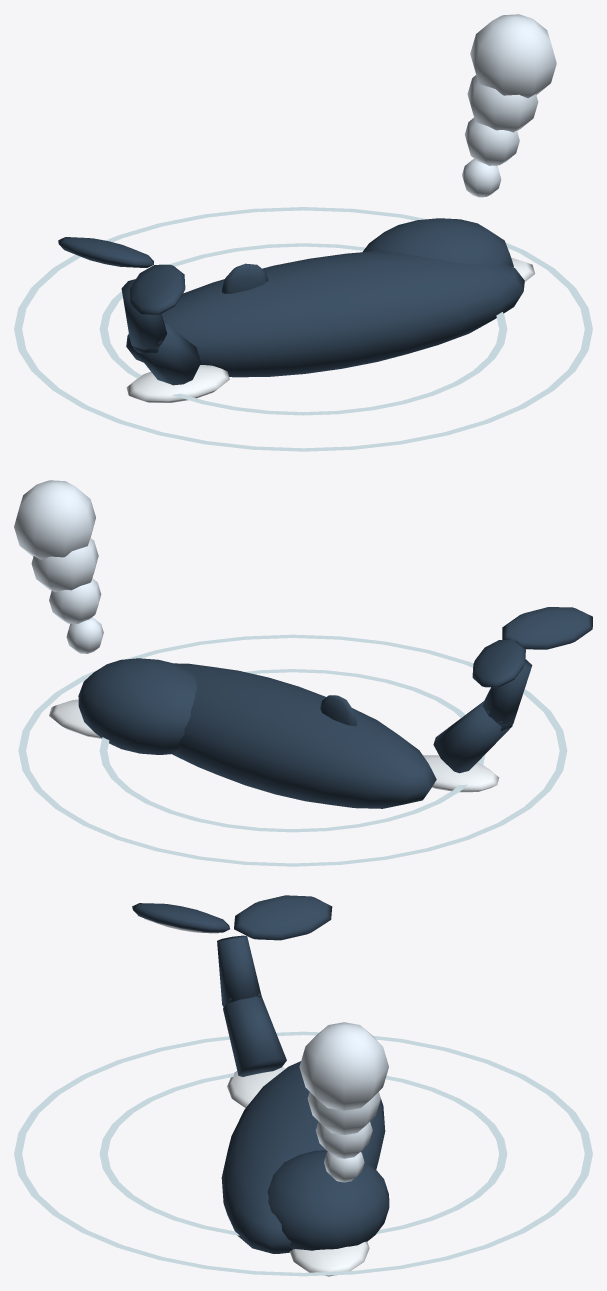
File: resource_whales.fbx
The picture shows the model from 3 angles, top to bottom: view 1: azimuth 30°, elevation 25°; view 2: azimuth 150°, elevation 25°; view 3: azimuth 270°, elevation 25°; orthographic projection. The views are drawn at different scales.
Visible parts, largest first — view 1: resource_whales_whale_01, resource_whales_smoke.001_04, resource_whales_foam_ring.003_00, resource_whales_splash_03; view 2: resource_whales_whale_01, resource_whales_smoke.001_04, resource_whales_foam_ring.003_00, resource_whales_splash_03; view 3: resource_whales_whale_01, resource_whales_foam_ring.003_00, resource_whales_smoke.001_04, resource_whales_splash_03.
Part boxes in pixels (box(x1,y1,x2,y2)): resource_whales_whale_01: box(58, 218, 524, 385); resource_whales_smoke.001_04: box(462, 14, 556, 197); resource_whales_foam_ring.003_00: box(14, 207, 592, 451); resource_whales_splash_03: box(126, 257, 534, 402); resource_whales_whale_01: box(78, 607, 592, 808); resource_whales_smoke.001_04: box(14, 480, 103, 653); resource_whales_foam_ring.003_00: box(18, 634, 567, 866); resource_whales_splash_03: box(49, 699, 499, 792); resource_whales_whale_01: box(132, 895, 389, 1253); resource_whales_foam_ring.003_00: box(14, 1031, 592, 1276); resource_whales_smoke.001_04: box(299, 1022, 388, 1182); resource_whales_splash_03: box(227, 1067, 369, 1276).
Bounding box in the file's own units: 118 × 59.8 × 114.
